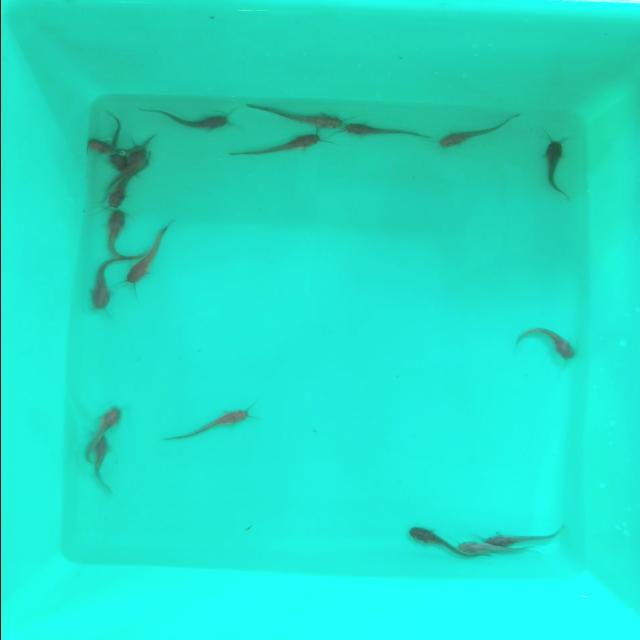lele: (436, 112, 520, 156), (167, 404, 256, 442), (248, 102, 340, 132), (234, 130, 322, 160), (138, 105, 236, 131), (538, 132, 570, 202), (407, 522, 460, 562), (128, 243, 173, 290), (85, 260, 121, 312), (344, 122, 424, 142), (520, 332, 578, 359), (487, 526, 561, 547), (100, 210, 132, 258), (100, 176, 140, 208), (90, 434, 110, 489), (87, 405, 121, 436), (110, 110, 128, 168), (131, 133, 159, 161), (455, 540, 497, 558), (84, 138, 118, 156)
